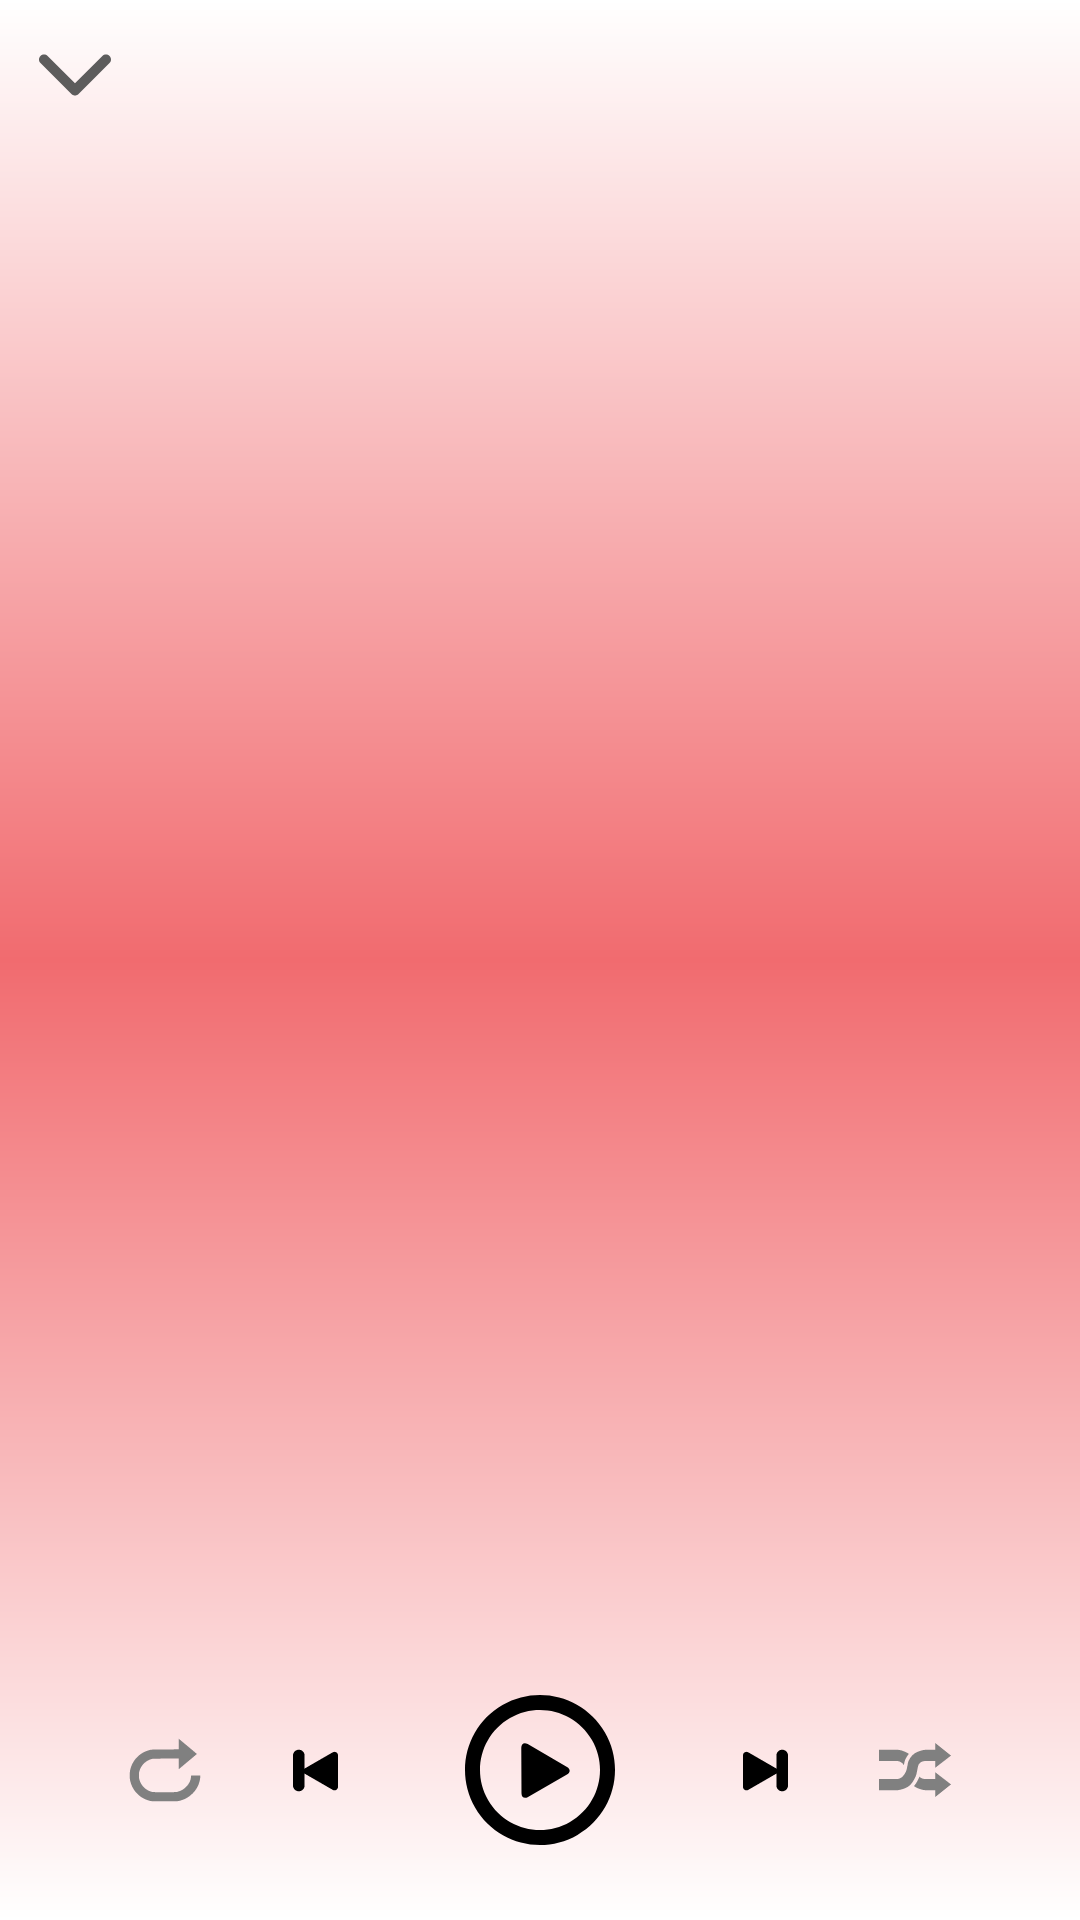

Icons on this 1080px x 1920px Android screen, each with its box as (x1, y1, x2, y2):
back: (293, 1749, 338, 1792)
next: (743, 1749, 788, 1792)
